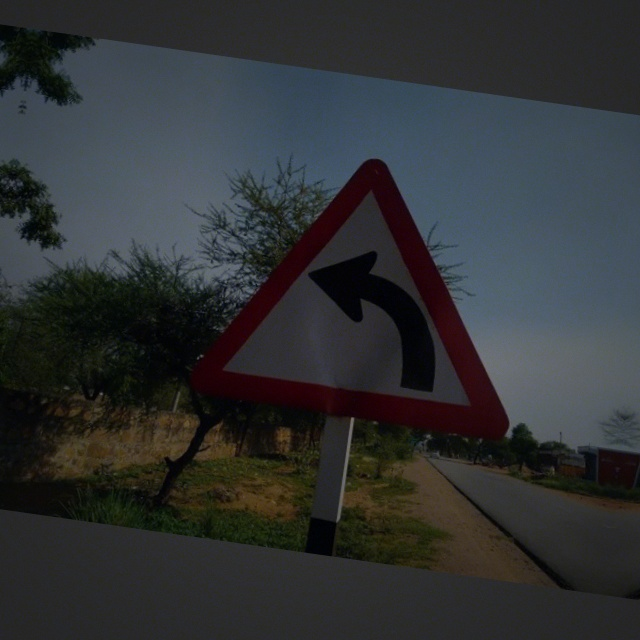Left_Hand_Curve: (209, 142, 541, 442)
